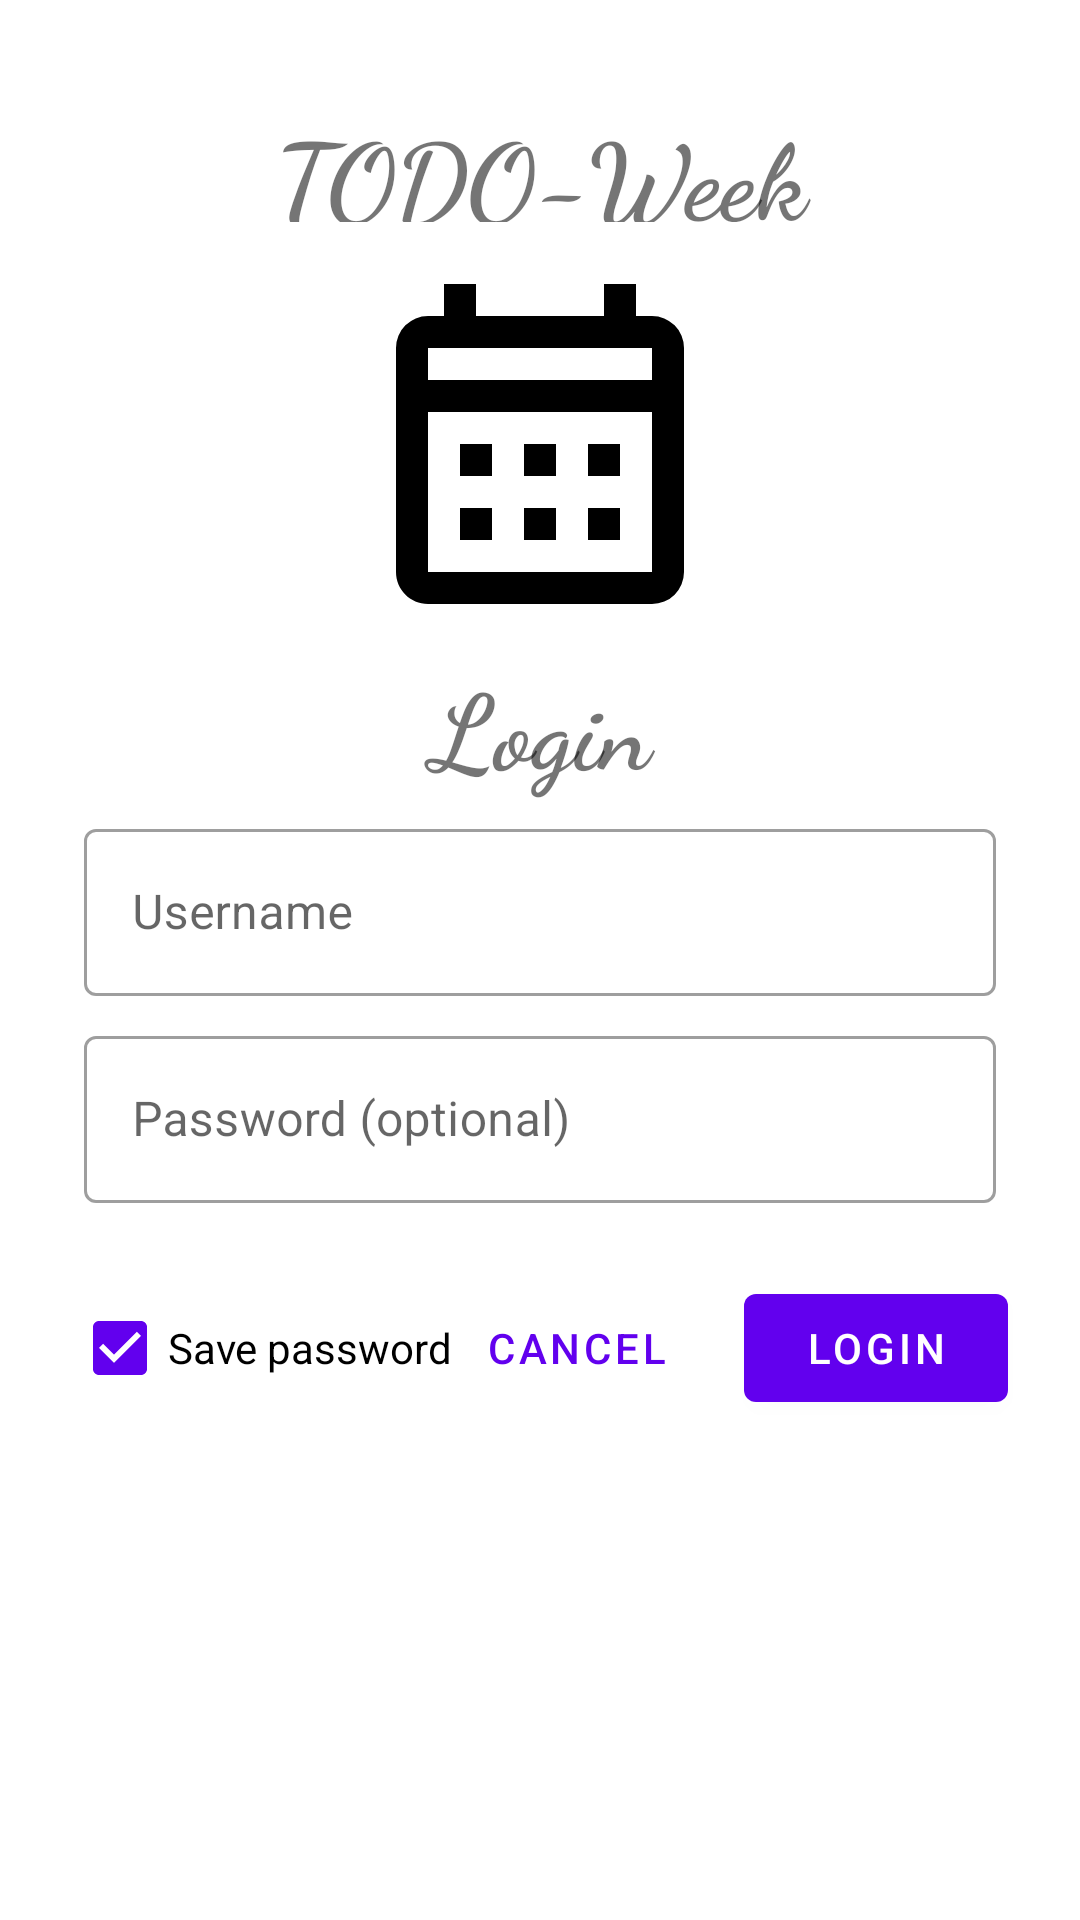

Icon click points for this 1080x1920 phone screenshot, format point (x, y):
calendar: point (540, 444)
